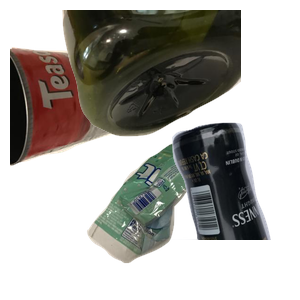glass: (106, 120, 300, 300)
metal: (10, 44, 151, 203)
plastic: (60, 10, 300, 139)
trash: (84, 133, 292, 300)
